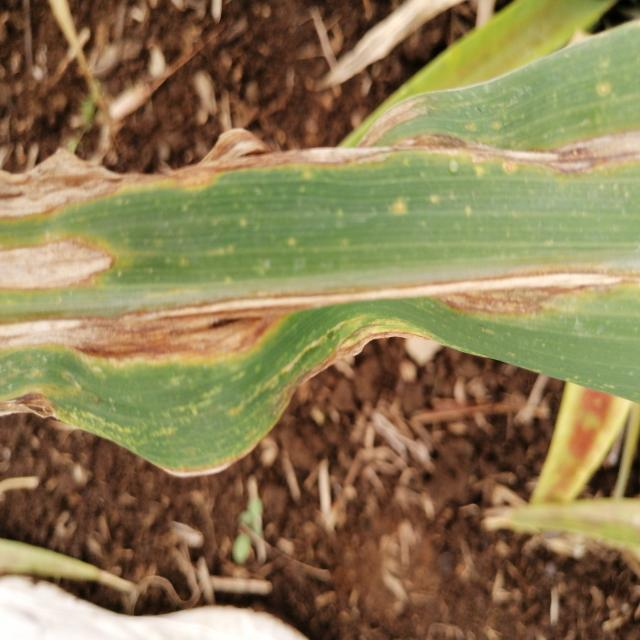Corn_Leaf_Blight: (0, 31, 640, 475)
